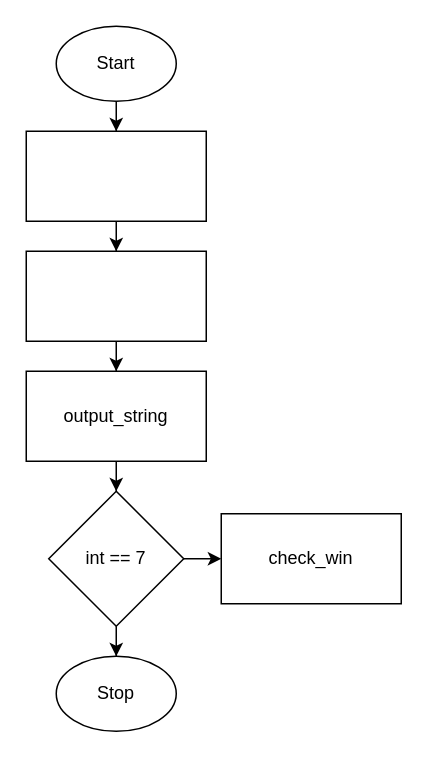
The diagram is 428 pixels wide and 758 high, and some of its shapes have lost their labels. Each missing label, with the centre of its shape:
convert int to char: the point at 115,175
store char at correct offset in string: the point at 115,295
